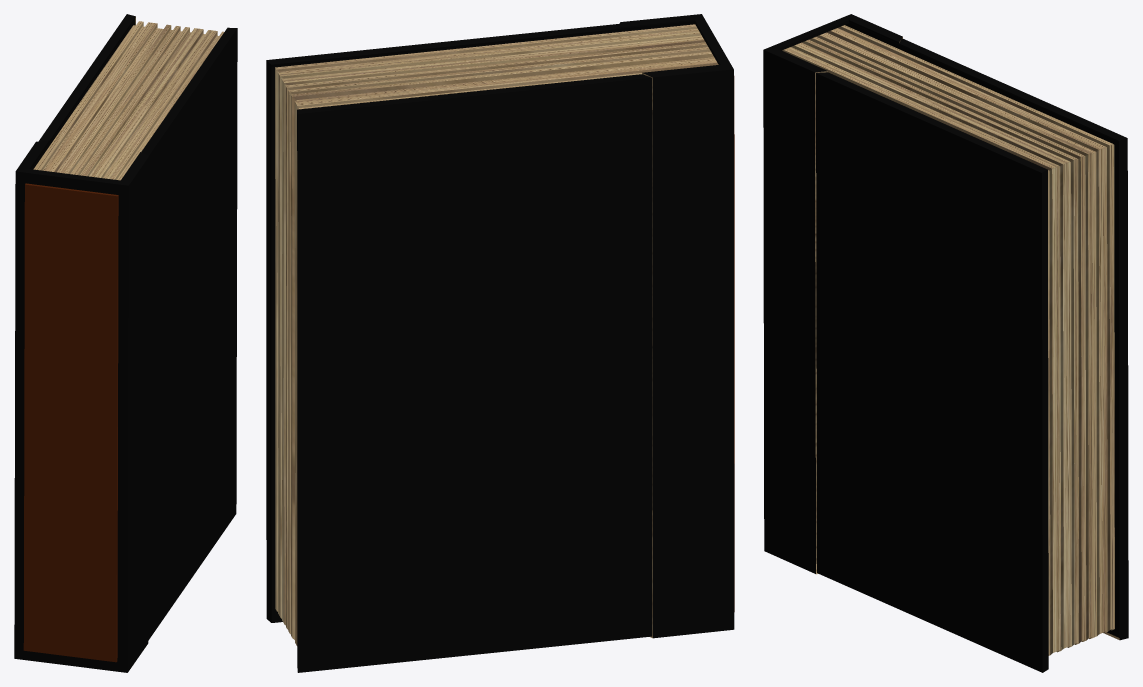
Rendered from SecondShelfBook9.fbx.
3 renders of one model, left to right at view 1: azimuth 30°, elevation 25°; view 2: azimuth 150°, elevation 25°; view 3: azimuth 270°, elevation 25°, orthographic. The views are drawn at different scales.
Parts seen in each view (by area): view 1: SmallBook.007; view 2: SmallBook.007; view 3: SmallBook.007.
Part boxes in pixels (x1,y1,x2,y2): SmallBook.007: (14,14,237,672); SmallBook.007: (266,14,734,672); SmallBook.007: (763,14,1128,672).
Bounding box in the file's own units: 101 × 149 × 98.19.
